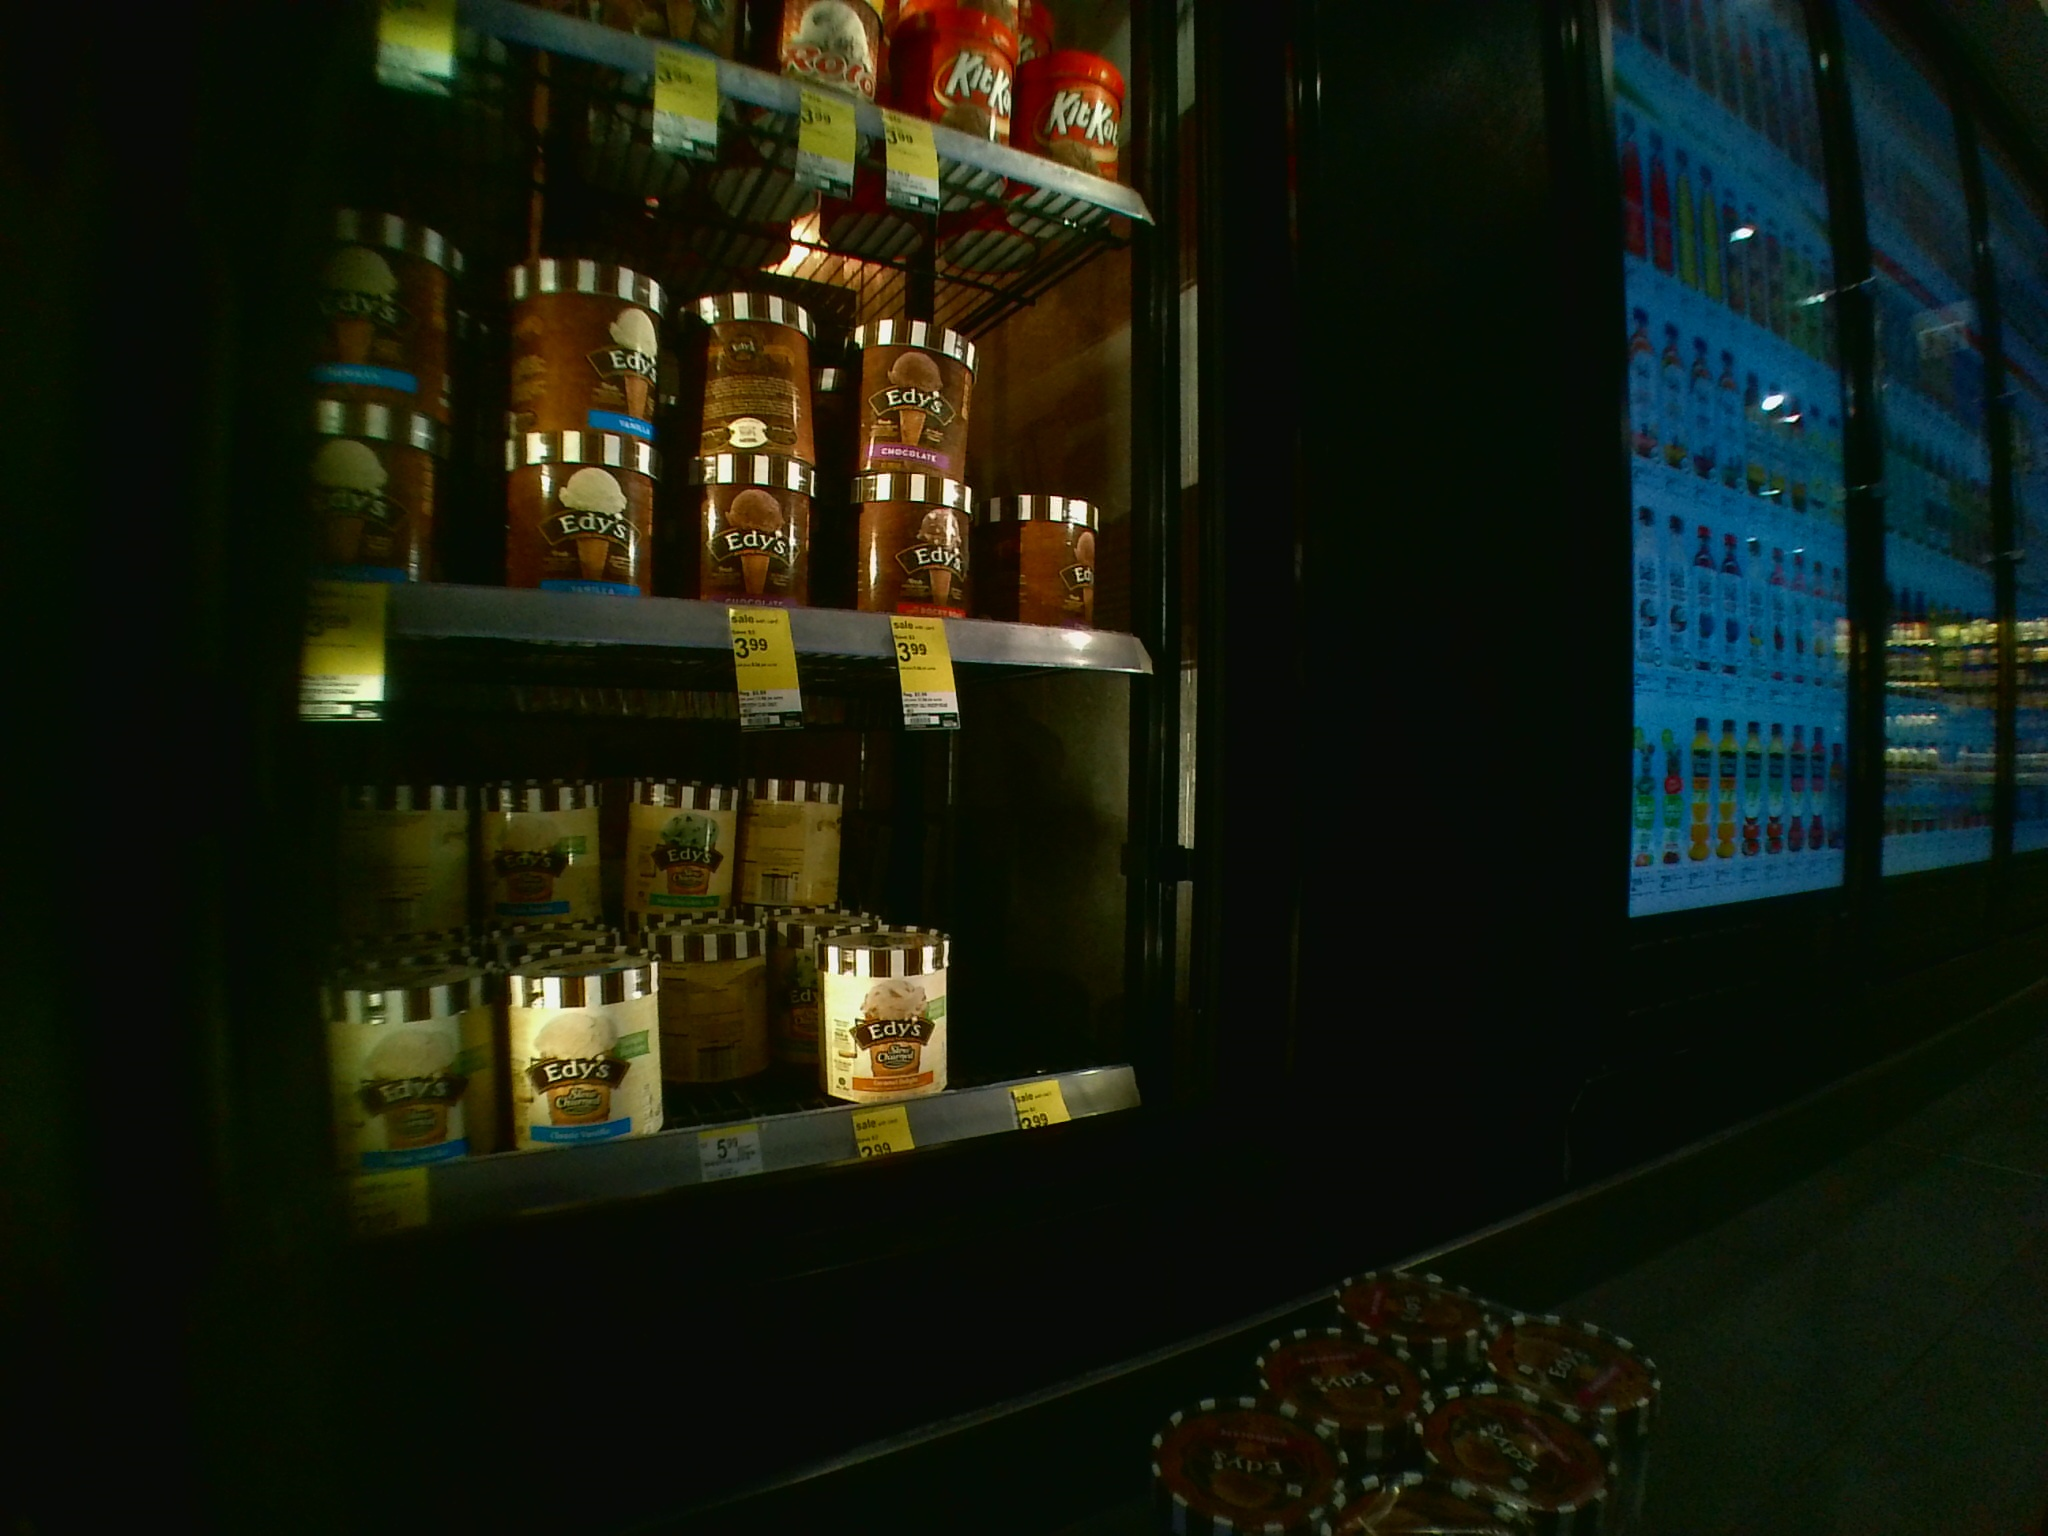shelf: (189, 686, 1148, 1184), (198, 168, 1150, 665)
